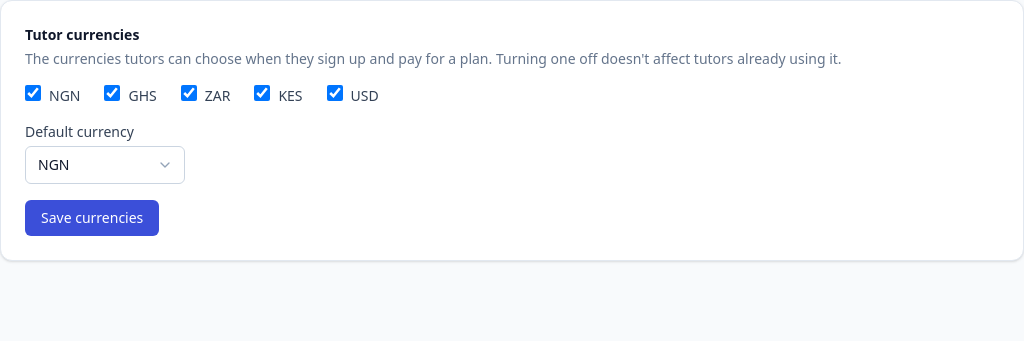
Test: TutorCurrenciesCard › saves the enabled currencies and the default
This screenshot has width=1024, height=341.
Click the checkbox labelled "GHS": [112, 93] box [104,85,120,101]
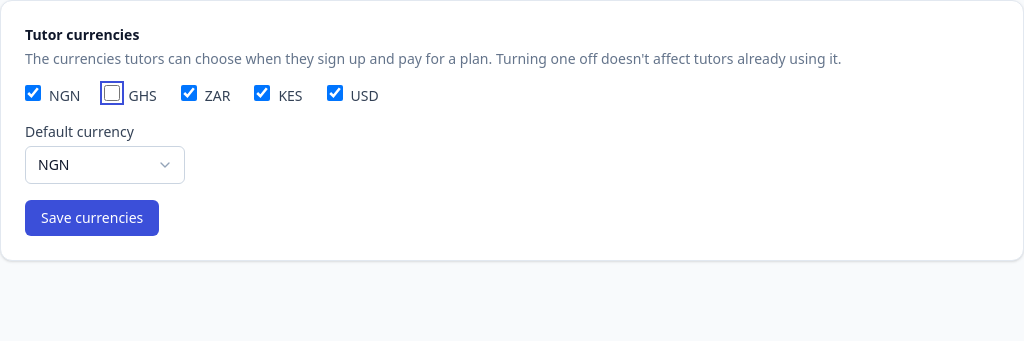
Click the checkbox labelled "ZAR": [189, 93] box [181,85,197,101]
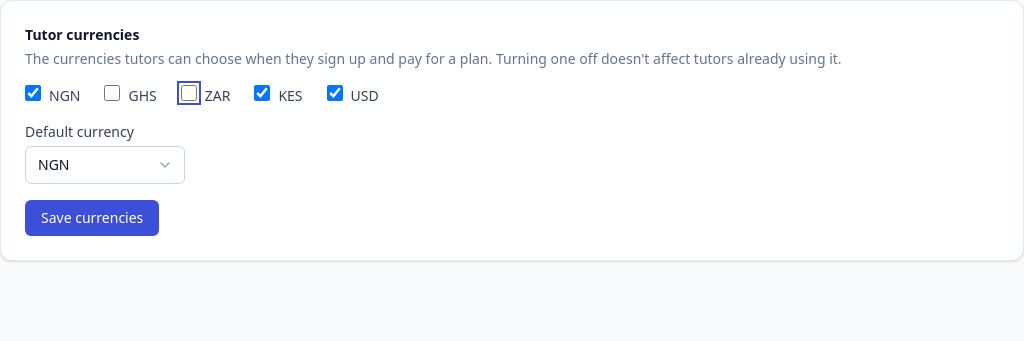
Select "USD" in the dropdown labelled "Default currency": [105, 165] box [25,146,185,184]
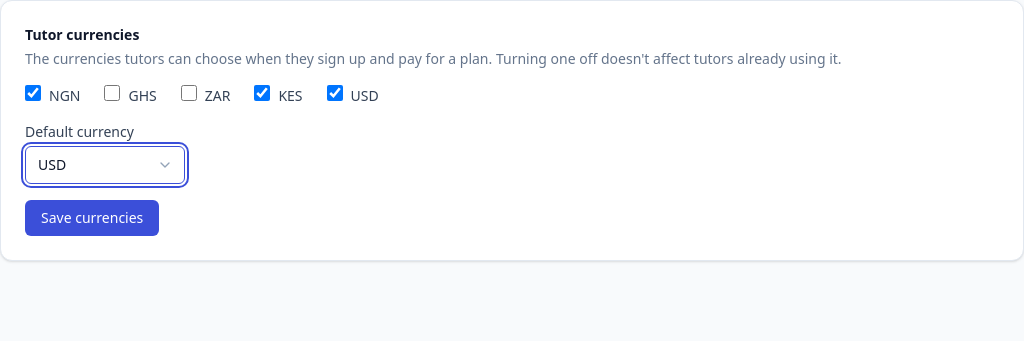
Click the button "Save currencies": [92, 218] box [25,200,159,236]
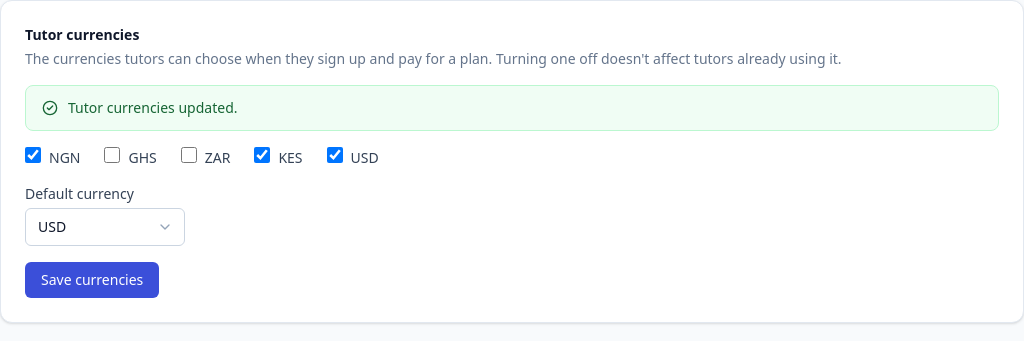
Now the text "Tutor currencies updated." is shown, box [68,98,238,118]
